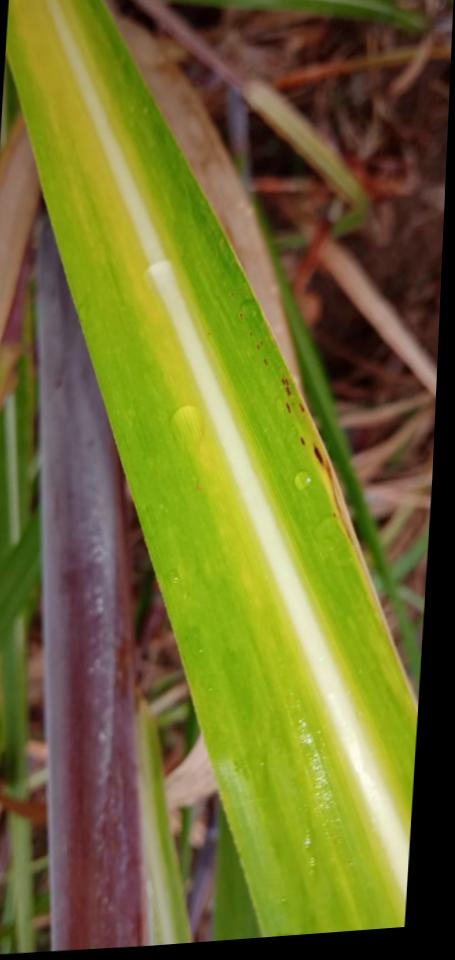Rust: (313, 442, 323, 464), (285, 400, 292, 415), (284, 386, 292, 397), (298, 402, 305, 413), (299, 435, 306, 446), (238, 310, 245, 319), (262, 358, 269, 366), (280, 377, 286, 385), (283, 377, 289, 385), (256, 343, 260, 351), (229, 291, 234, 297), (248, 330, 253, 336), (258, 340, 264, 345)
Yellow: (9, 0, 405, 931), (53, 0, 411, 843)
